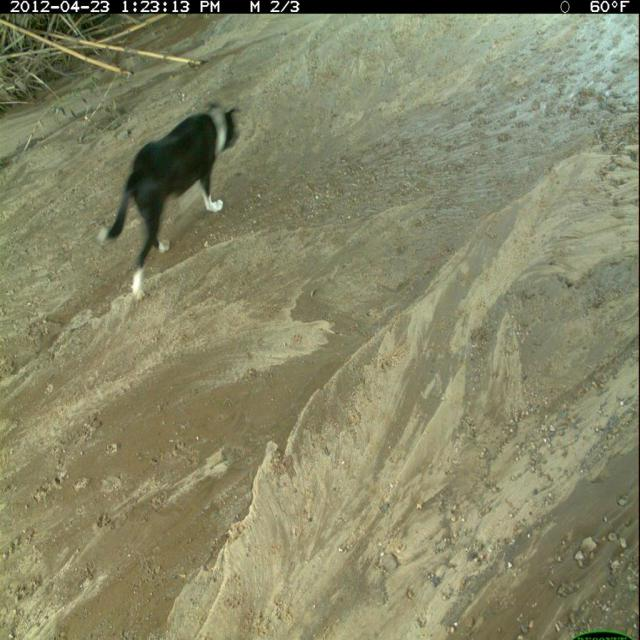dog: (94, 96, 247, 306)
